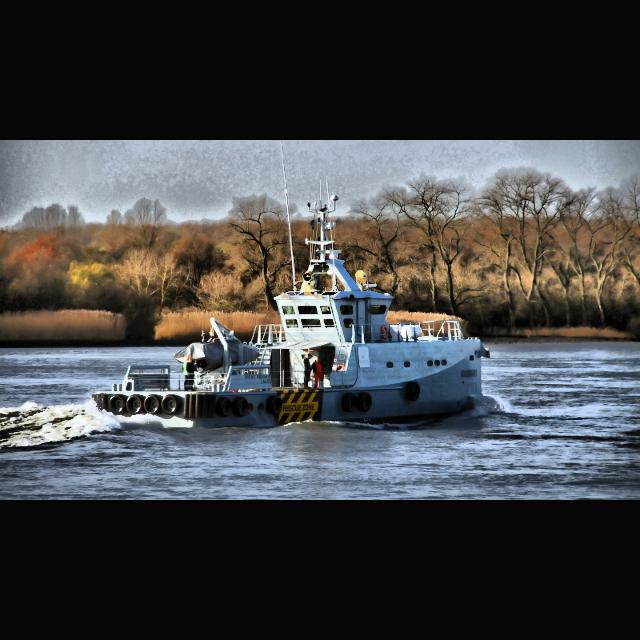patrol_vessel: (90, 180, 492, 430)
